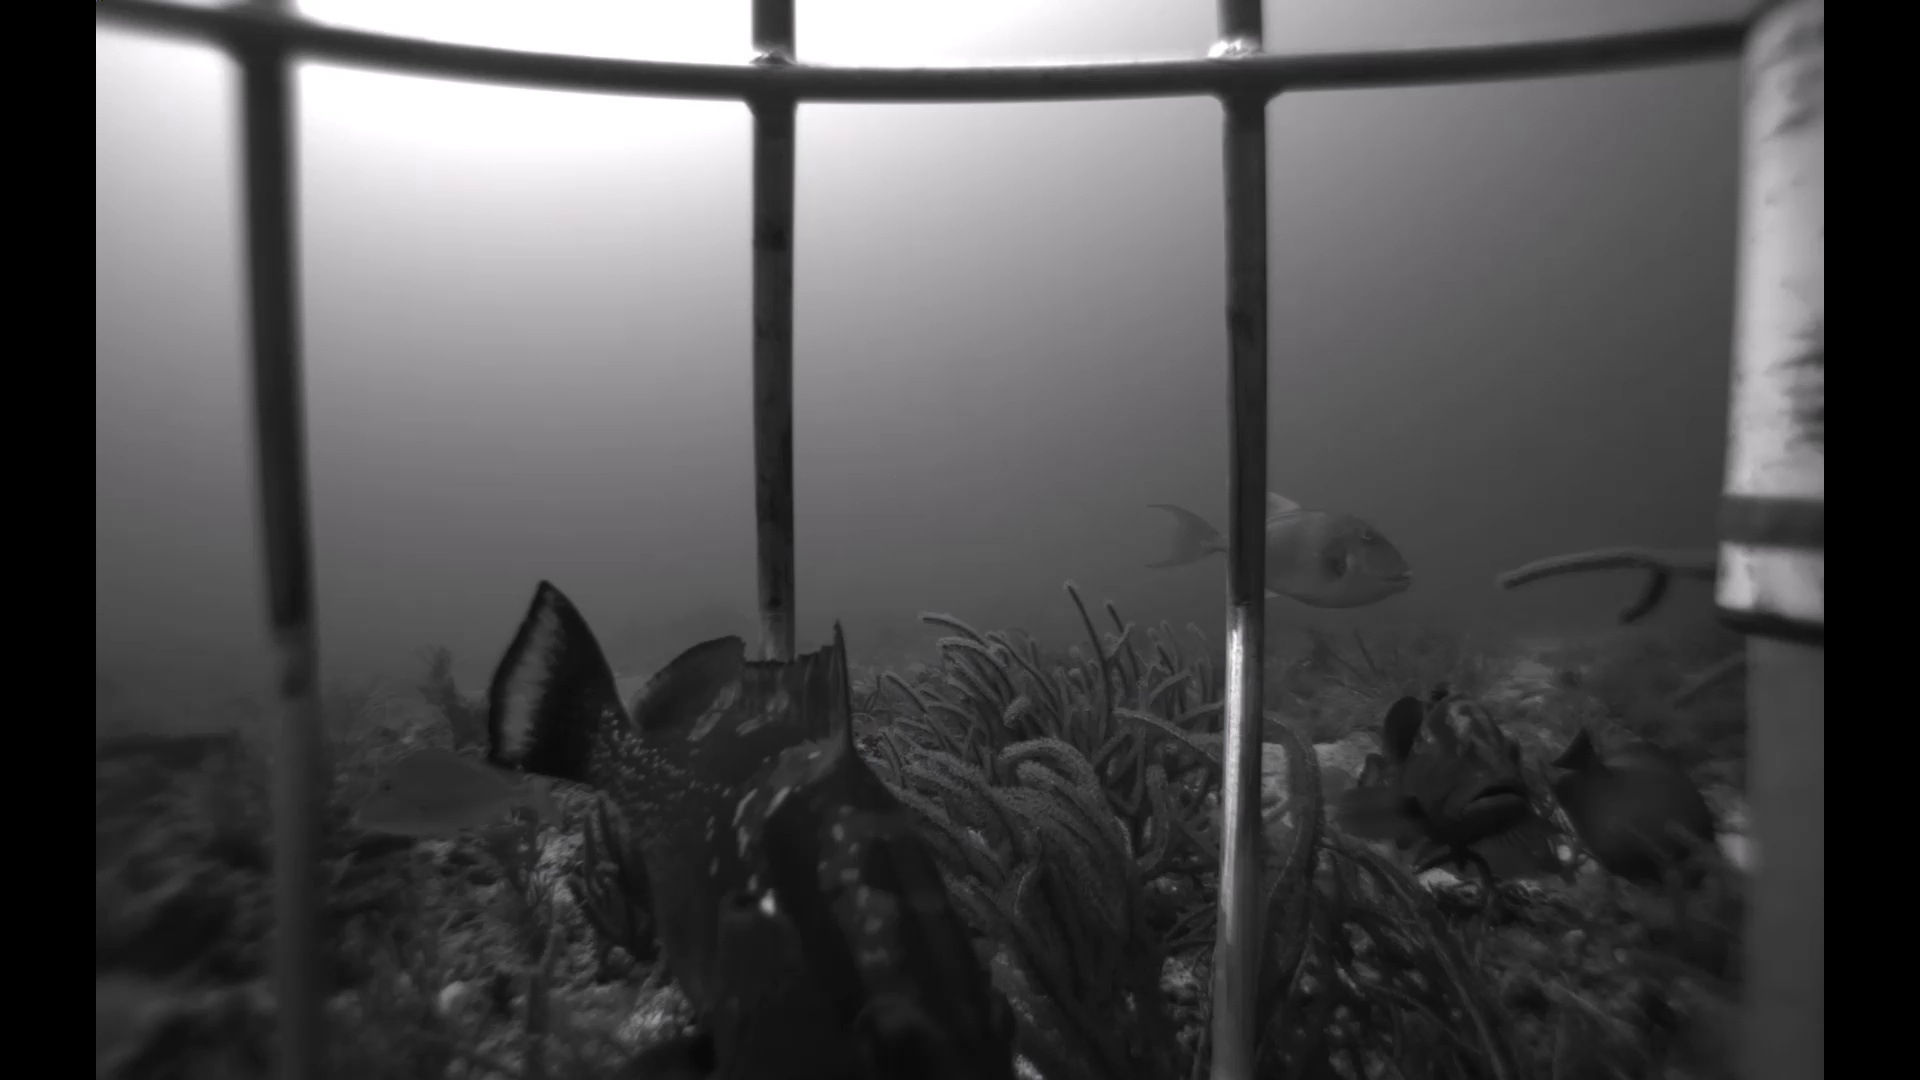BALISTESCAPRISCUS-189030502: (1131, 472, 1422, 615)
CALAMUSNODOSUS-170210608: (345, 746, 585, 852)
EPINEPHELUSMORIO-170021211: (353, 558, 1071, 1065), (1309, 671, 1565, 884)
LACHNOLAIMUSMAXIMUS-170281801: (1315, 761, 1578, 899)
POMACANTHUSARCUATUS-170290201: (1524, 716, 1735, 909)
